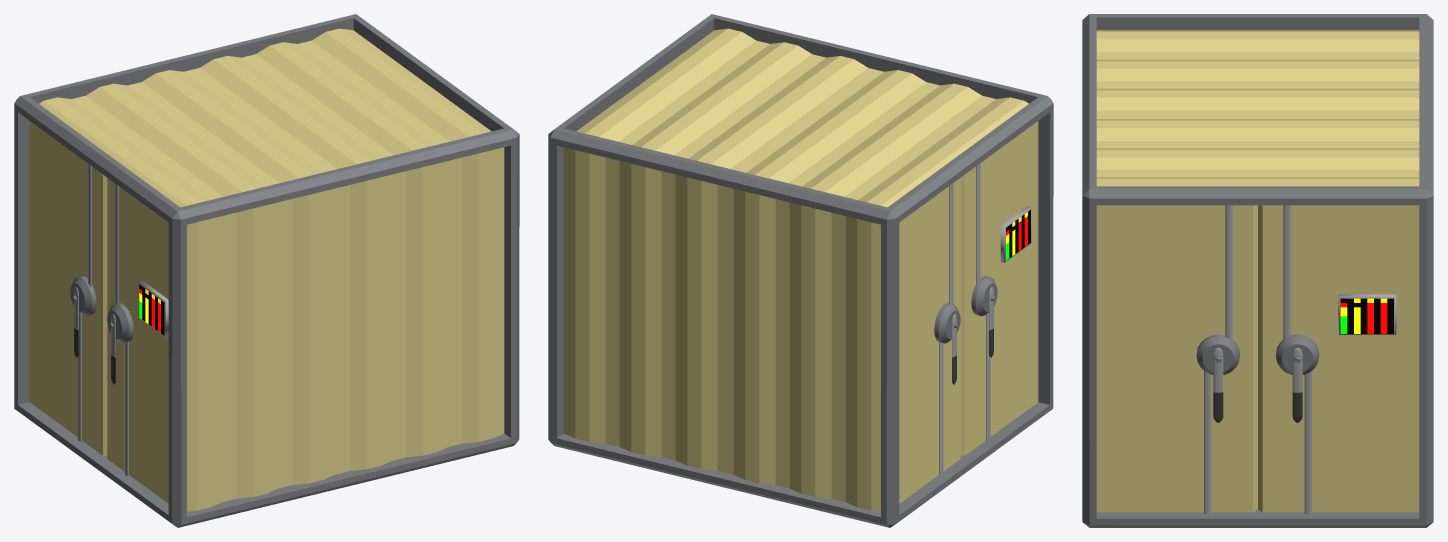
Rendered from prop_container10ft.fbx.
3 views of the same model, side by side, from view 1: azimuth 30°, elevation 25°; view 2: azimuth 150°, elevation 25°; view 3: azimuth 270°, elevation 25° (orthographic). The views are drawn at different scales.
Parts seen in each view (by area): view 1: Container, pCylinder2, LockbarBottom, screen, LockbarTop, Handle; view 2: Container, pCylinder2, screen, LockbarBottom, LockbarTop, Handle; view 3: Container, screen, pCylinder2, LockbarBottom, LockbarTop, Handle.
Part boxes in pixels (x1=…): Container: x1=14, y1=14, x2=519, y2=527; pCylinder2: x1=70, y1=276, x2=133, y2=343; LockbarBottom: x1=77, y1=312, x2=128, y2=476; screen: x1=139, y1=281, x2=168, y2=337; LockbarTop: x1=87, y1=163, x2=118, y2=303; Handle: x1=74, y1=287, x2=115, y2=384; Container: x1=548, y1=14, x2=1053, y2=527; pCylinder2: x1=934, y1=276, x2=997, y2=343; screen: x1=1000, y1=206, x2=1031, y2=262; LockbarBottom: x1=939, y1=312, x2=990, y2=476; LockbarTop: x1=949, y1=163, x2=980, y2=303; Handle: x1=952, y1=287, x2=993, y2=384; Container: x1=1082, y1=14, x2=1433, y2=527; screen: x1=1338, y1=294, x2=1396, y2=334; pCylinder2: x1=1196, y1=334, x2=1319, y2=374; LockbarBottom: x1=1204, y1=371, x2=1311, y2=513; LockbarTop: x1=1225, y1=205, x2=1290, y2=340; Handle: x1=1213, y1=347, x2=1302, y2=422.
Bounding box in the file's own units: 2.99 × 2.59 × 2.43.
